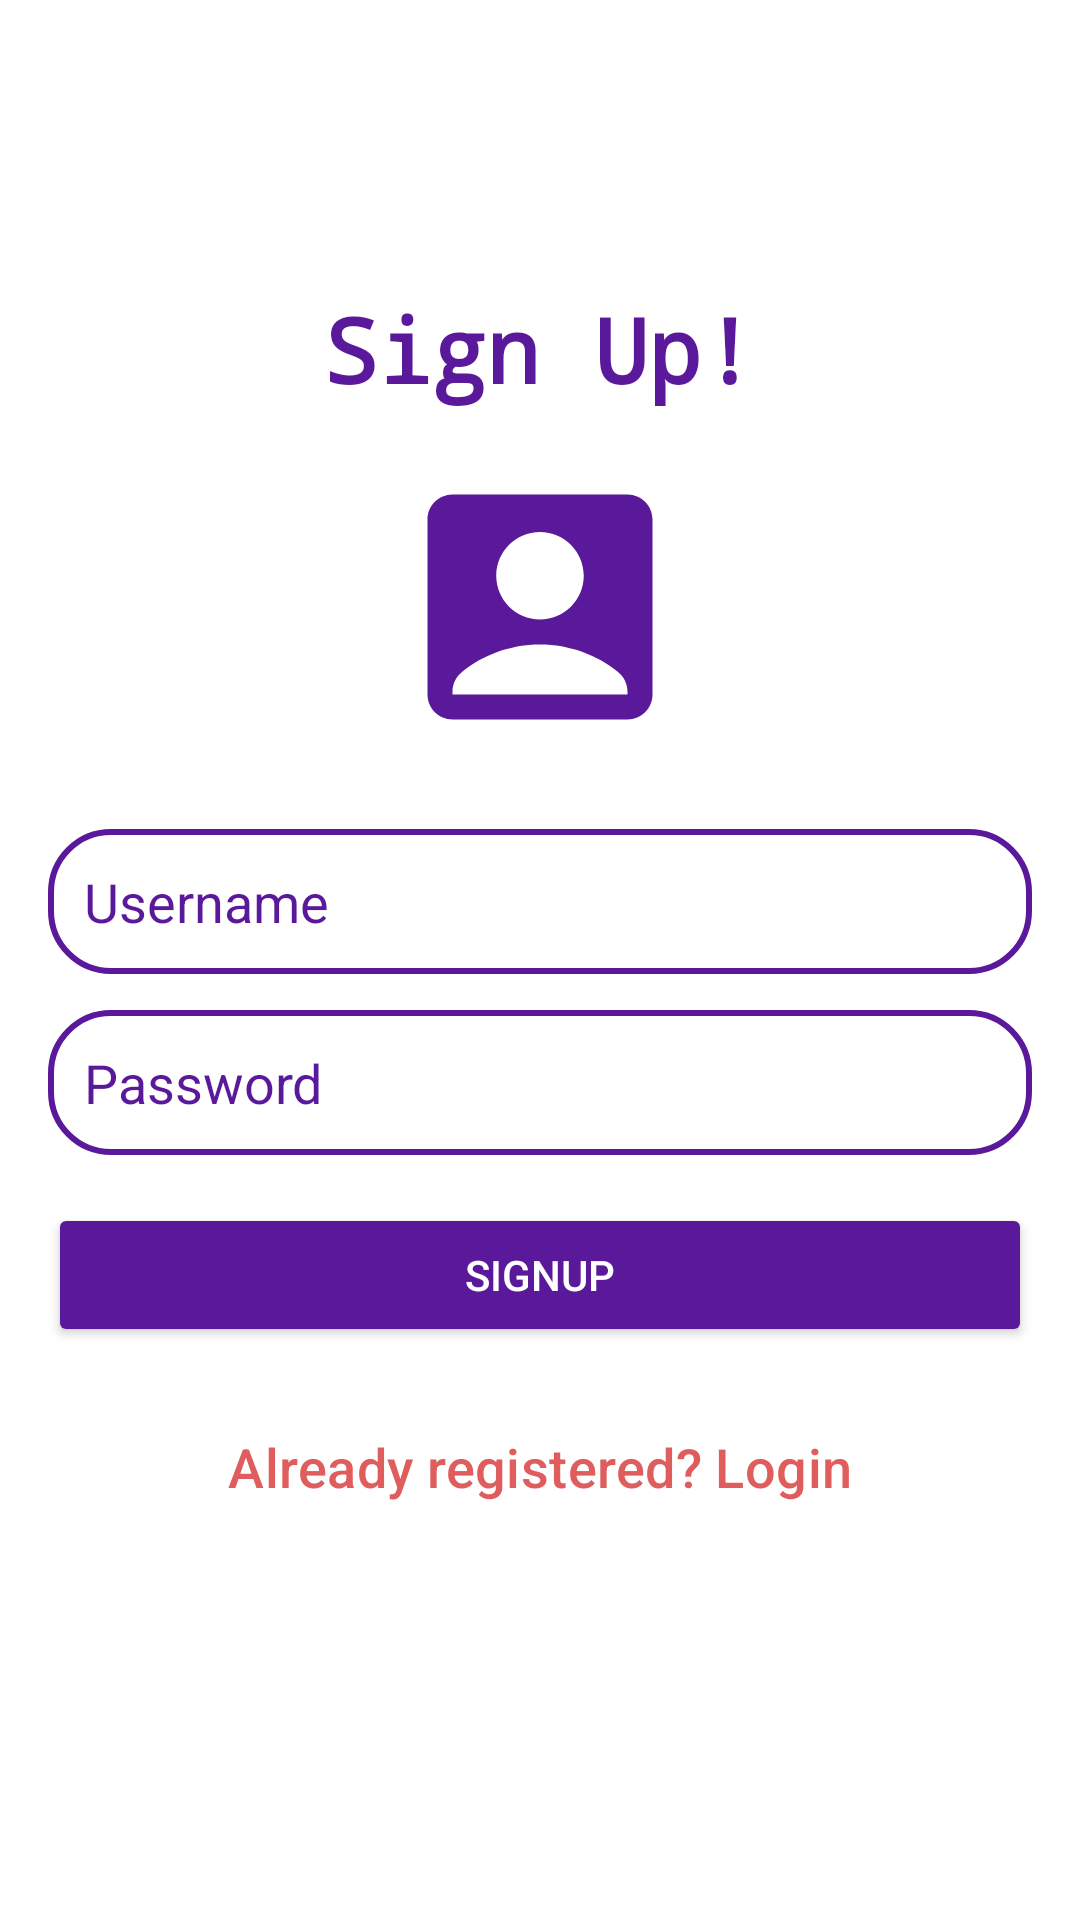

Named icons in this screenshot (1080px×1920px) and their bounding boxes, (x1, y1, x2, y2):
account box: (427, 494, 653, 720)
